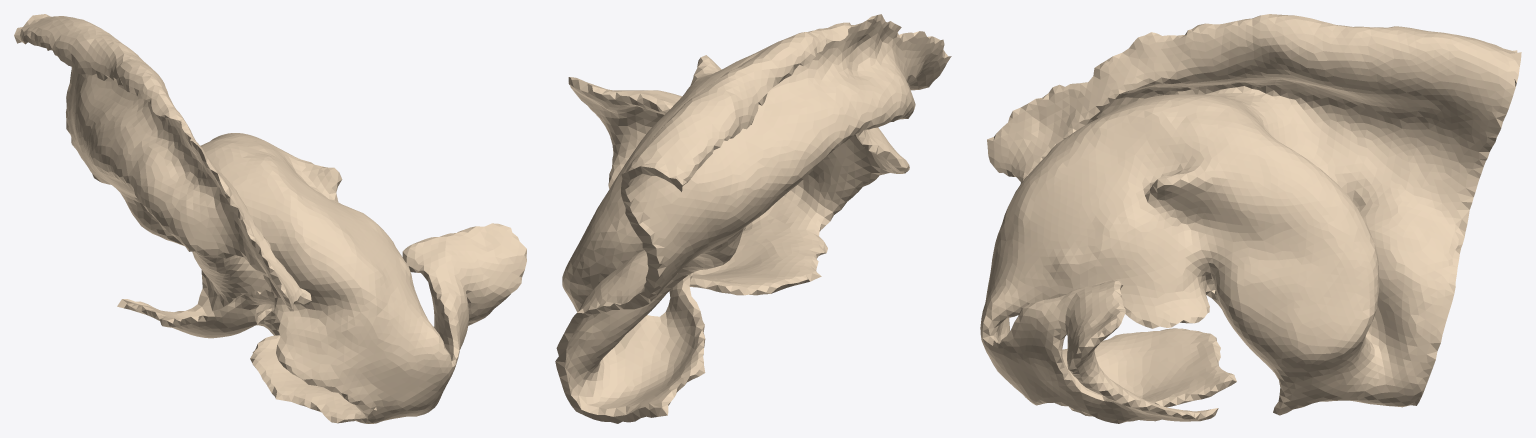
3 views of the same model, side by side, from view 1: azimuth 30°, elevation 25°; view 2: azimuth 150°, elevation 25°; view 3: azimuth 270°, elevation 25° (orthographic). The views are drawn at different scales.
Visible parts, largest first — view 1: Shape_IndexedFaceSet.009; view 2: Shape_IndexedFaceSet.009; view 3: Shape_IndexedFaceSet.009.
Boxes of the visible parts, bbox=[...] form: Shape_IndexedFaceSet.009: bbox=[14, 14, 526, 423]; Shape_IndexedFaceSet.009: bbox=[555, 14, 951, 423]; Shape_IndexedFaceSet.009: bbox=[980, 14, 1521, 423].
Bounding box in the file's own units: 3773 × 3489 × 5172.
